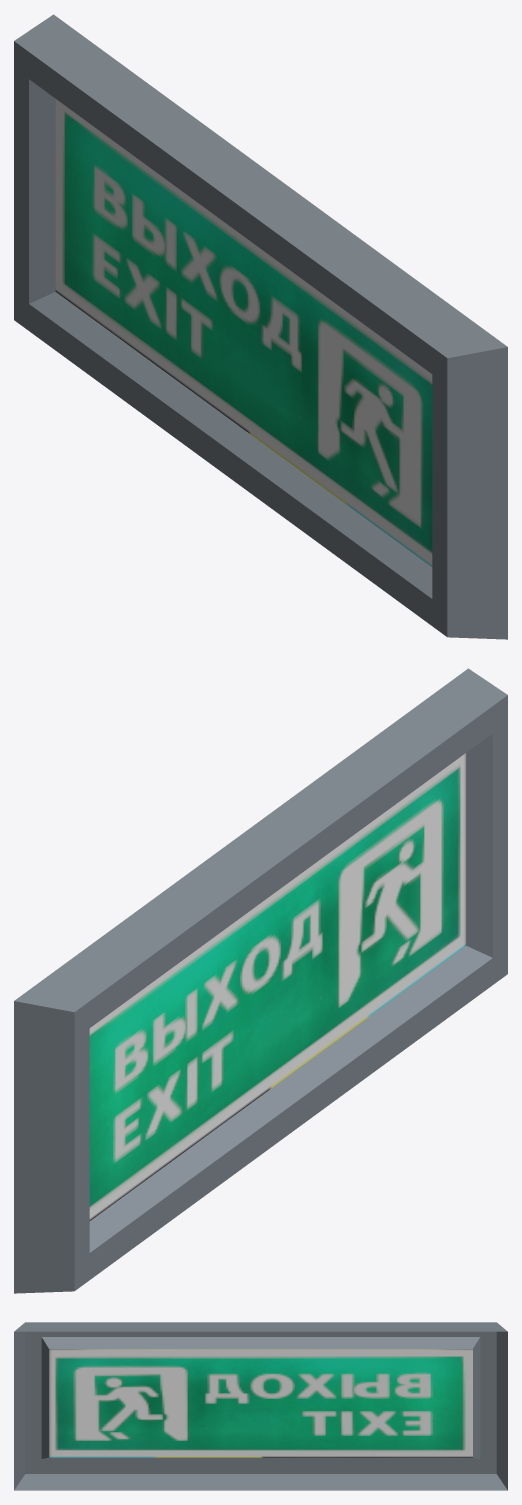
The model's file is ExitSign.fbx.
3 views of the same model, one above another, from view 1: azimuth 30°, elevation 25°; view 2: azimuth 150°, elevation 25°; view 3: azimuth 270°, elevation 25° (orthographic). The views are drawn at different scales.
Parts seen in each view (by area): view 1: ExitSign; view 2: ExitSign; view 3: ExitSign.
Boxes of the visible parts, left/top/right/bottom form: ExitSign: left=14, top=14, right=507, bottom=639; ExitSign: left=14, top=668, right=507, bottom=1293; ExitSign: left=14, top=1322, right=507, bottom=1490.
Bounding box in the file's own units: 4.04 × 22.57 × 63.53.
